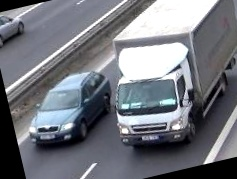car: (18, 67, 121, 152), (0, 11, 28, 49)
